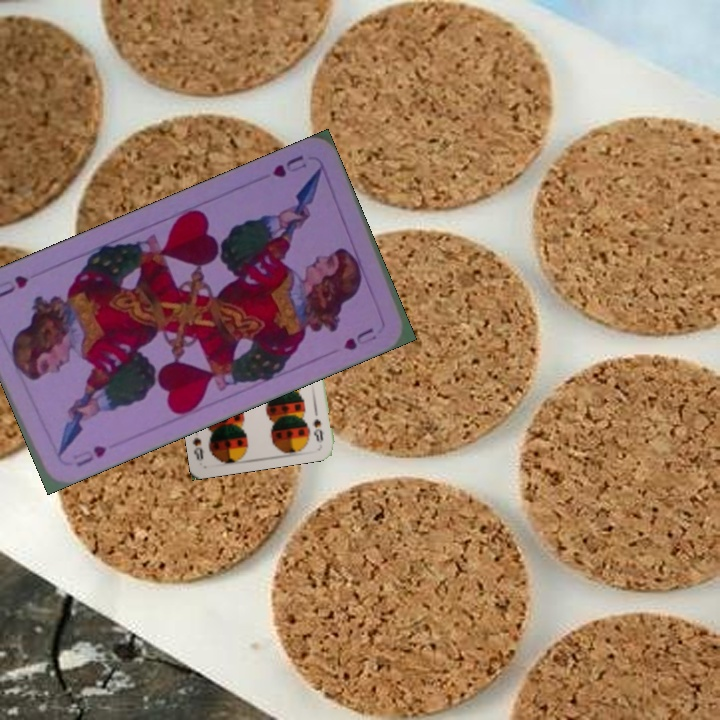HU: (269, 151, 309, 180), (72, 441, 109, 470)
S8: (309, 404, 326, 445)
